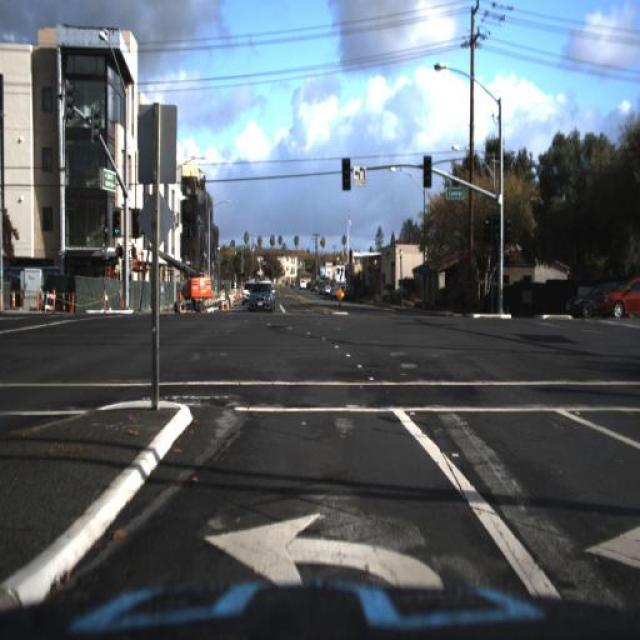car: (561, 288, 607, 322), (567, 288, 611, 316), (244, 283, 272, 311), (240, 281, 254, 311), (298, 274, 311, 297)
trafficLight-Red: (338, 152, 354, 192), (112, 211, 122, 240)
trafficLight-RedLeft: (418, 153, 431, 196), (490, 206, 502, 242), (341, 158, 351, 192)
